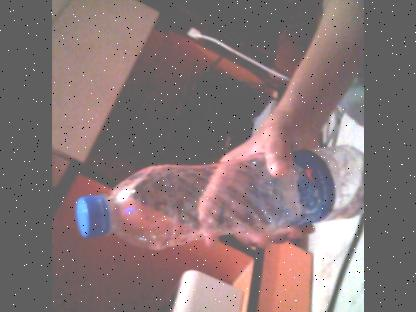Plastic Bottle: (73, 142, 364, 250)
